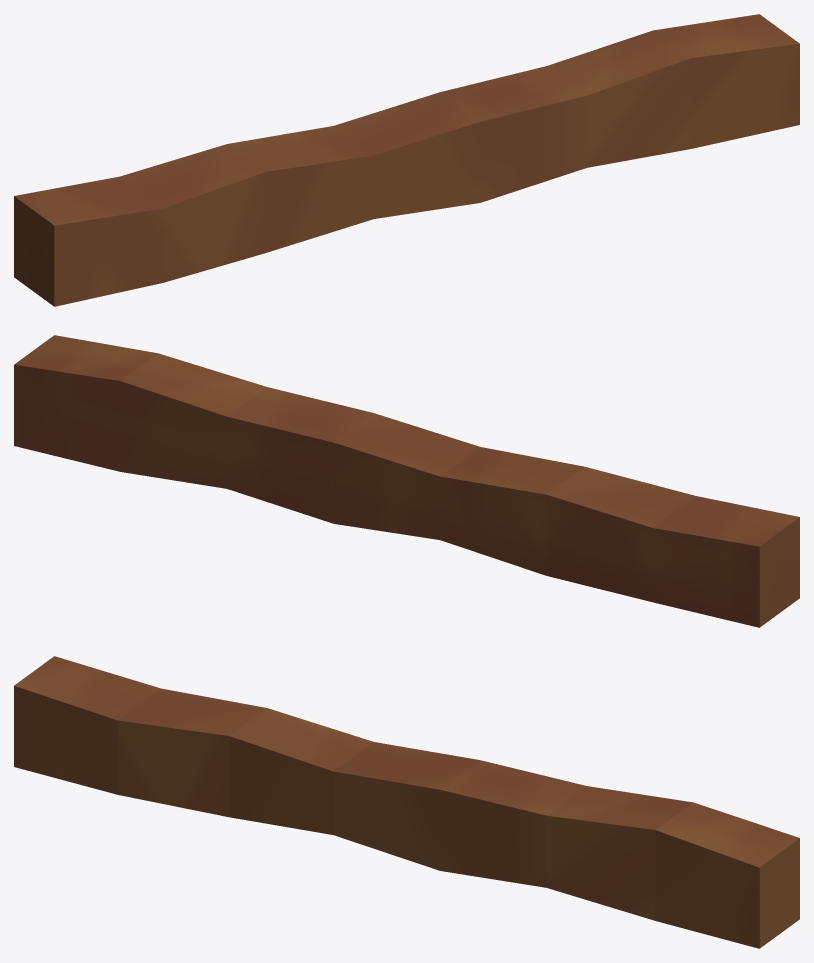
The model's file is RW Pillers 4.fbx.
3 renders of one model, top to bottom at view 1: azimuth 30°, elevation 25°; view 2: azimuth 150°, elevation 25°; view 3: azimuth 330°, elevation 25°, orthographic.
Visible parts, largest first — view 1: RW Pillers 4; view 2: RW Pillers 4; view 3: RW Pillers 4.
Part boxes in pixels (x1,y1,x2,y2): RW Pillers 4: [14, 14, 799, 306]; RW Pillers 4: [14, 335, 799, 627]; RW Pillers 4: [14, 656, 799, 948].
Size of the model in its own units: 273 by 31.82 by 27.69.
1 material, 1 textured.
